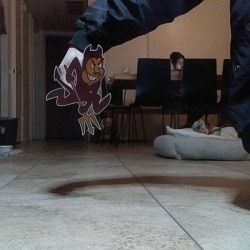sparky: (45, 44, 112, 136)
